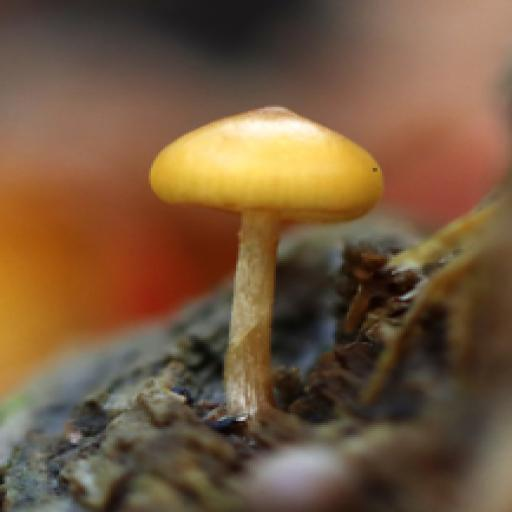mushroom: (139, 99, 390, 353)
